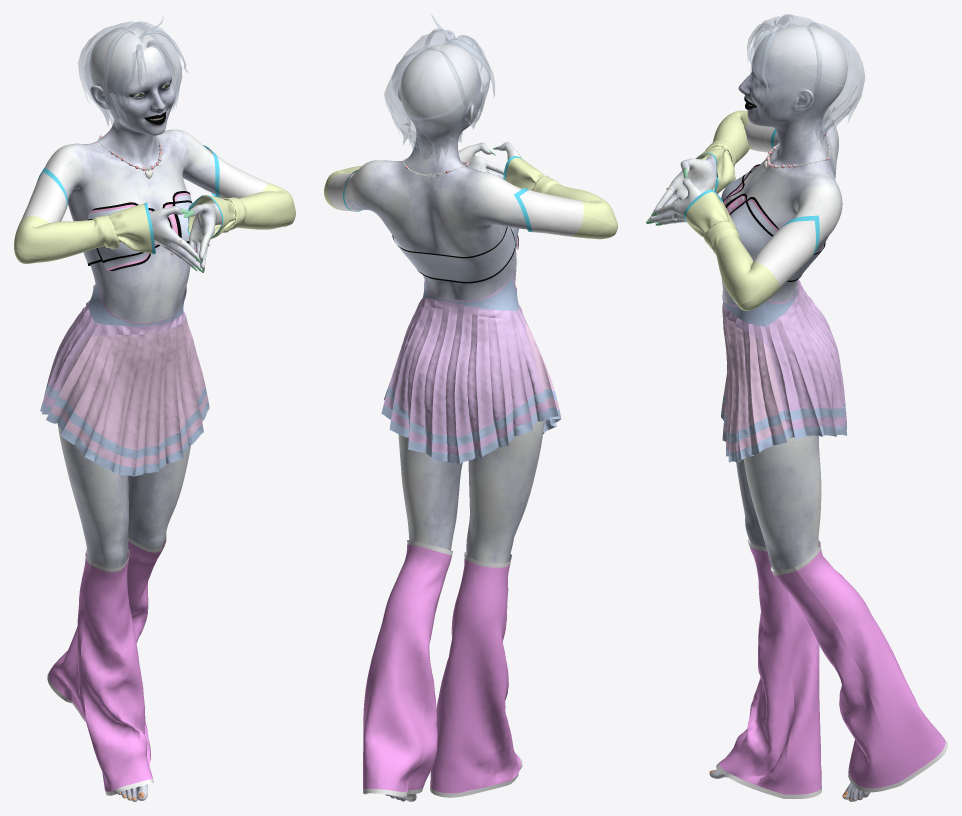
The model's file is Avatar_Domi.glb.
3 views of the same model, side by side, from view 1: azimuth 30°, elevation 25°; view 2: azimuth 150°, elevation 25°; view 3: azimuth 270°, elevation 25° (orthographic). The views are drawn at different scales.
Parts seen in each view (by area): view 1: Genesis9.001, Garment_Domi_Skirt, Garment_Domi_Legs, Garment_Domi_Sleeves, hair, Garment_Domi_Top; view 2: Genesis9.001, Garment_Domi_Legs, Garment_Domi_Skirt, hair, Garment_Domi_Sleeves, Garment_Domi_Top; view 3: Garment_Domi_Legs, Genesis9.001, Garment_Domi_Skirt, Garment_Domi_Sleeves, hair, Garment_Domi_Top.
Part boxes in pixels (x1,y1,x2,y2): Genesis9.001: (45, 27, 222, 801); Garment_Domi_Skirt: (40, 283, 209, 476); Garment_Domi_Legs: (47, 533, 166, 795); Garment_Domi_Sleeves: (14, 145, 295, 263); hair: (78, 16, 188, 126); Garment_Domi_Top: (83, 191, 195, 270); Genesis9.001: (344, 44, 544, 801); Garment_Domi_Legs: (363, 540, 522, 797); Garment_Domi_Skirt: (381, 273, 561, 463); hair: (384, 15, 494, 161); Garment_Domi_Sleeves: (324, 156, 617, 239); Garment_Domi_Top: (392, 226, 519, 283); Garment_Domi_Legs: (716, 538, 947, 798); Genesis9.001: (646, 25, 870, 801); Garment_Domi_Skirt: (721, 279, 847, 462); Garment_Domi_Sleeves: (683, 110, 819, 310); hair: (747, 14, 864, 143); Garment_Domi_Top: (721, 164, 825, 281).
Bounding box in the file's own units: 70.47 × 180 × 62.23.
23 materials, 19 textured.
